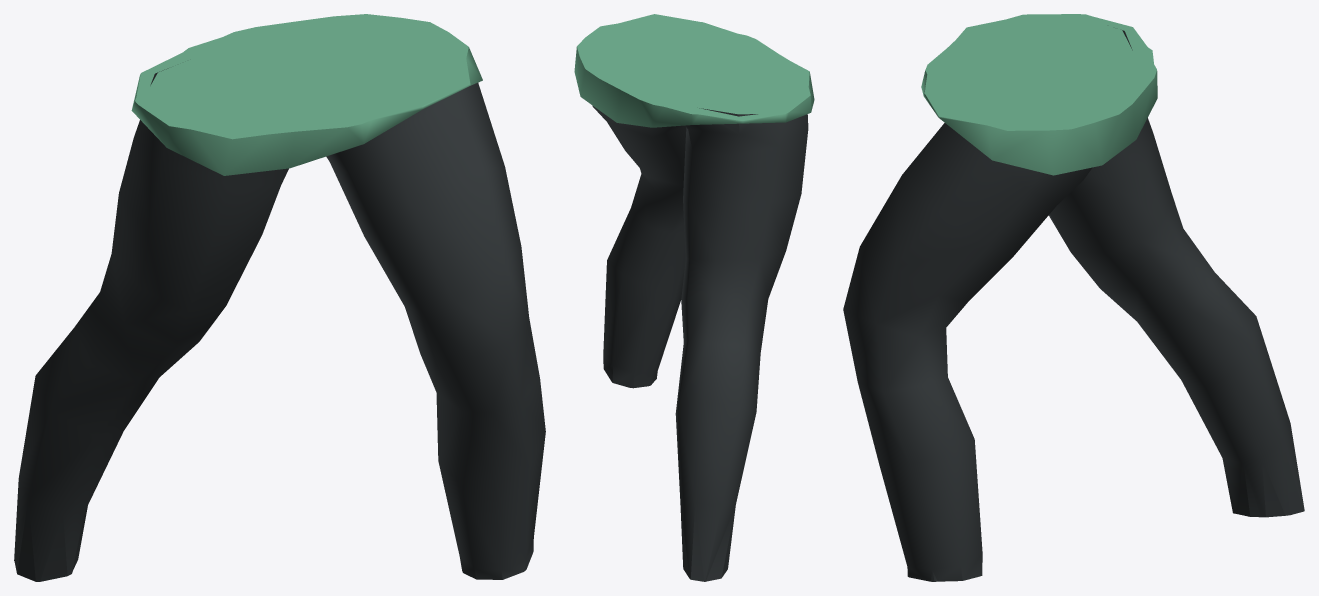
Rendered from Thief_Legs.fbx.
3 views of the same model, side by side, from view 1: azimuth 30°, elevation 25°; view 2: azimuth 150°, elevation 25°; view 3: azimuth 270°, elevation 25° (orthographic). The views are drawn at different scales.
Visible parts, largest first — view 1: T_Legs; view 2: T_Legs; view 3: T_Legs.
Part boxes in pixels (x1,y1,x2,y2): T_Legs: (14, 14, 545, 581); T_Legs: (574, 14, 814, 581); T_Legs: (843, 14, 1304, 581).
Bounding box in the file's own units: 42.48 × 67.12 × 54.82.
